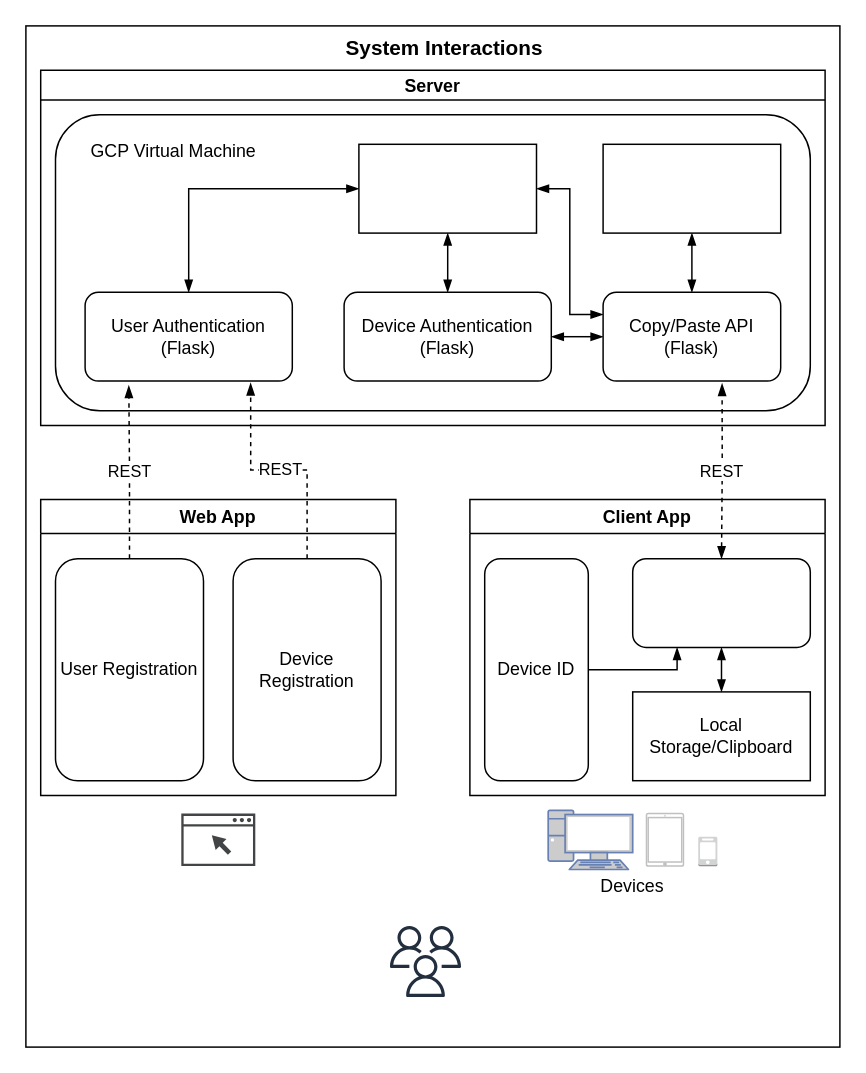
Some shapes in this 866 by 1073 pixel diagram are drawn without their labels. The shapes that lost their labels are listed below. From the top down, each one's centre as x and y in pixels, then its label:
At point (446, 188): "Database (MySQL)".
At point (691, 188): "Storage (GCP Buckets)".
At point (720, 602): "Copy/Paste Functionality".
At point (218, 839): "Browser".
At point (425, 961): "Users".
